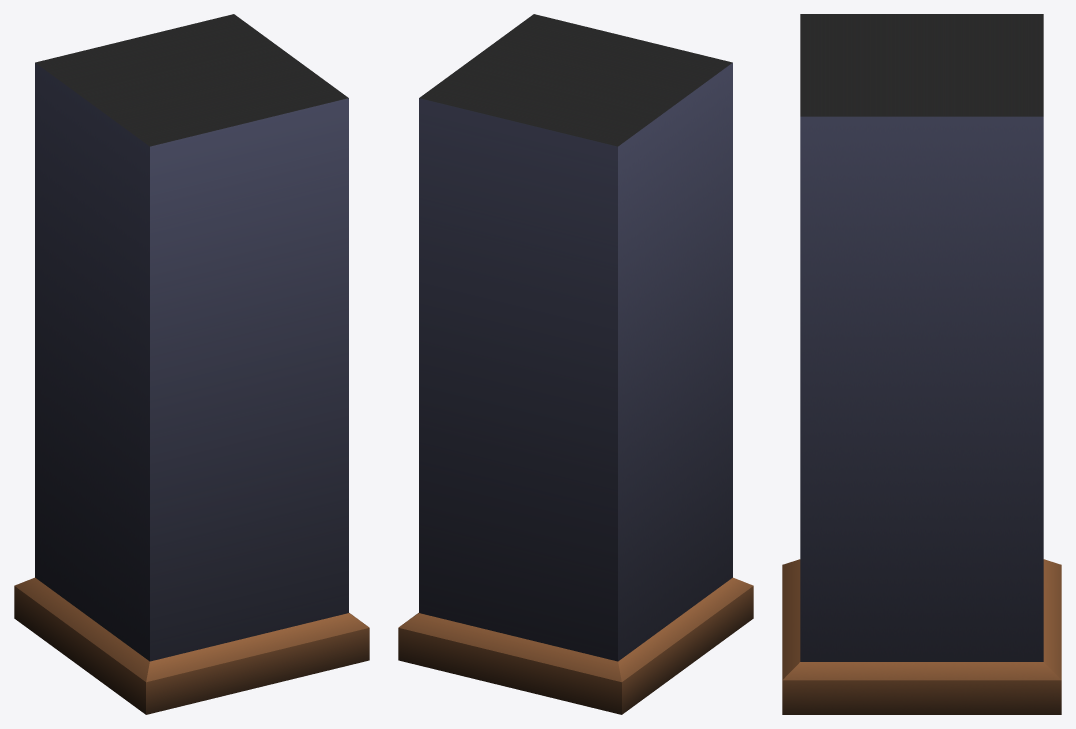
File: big_col.fbx
3 renders of one model, left to right at view 1: azimuth 30°, elevation 25°; view 2: azimuth 150°, elevation 25°; view 3: azimuth 270°, elevation 25°, orthographic. The views are drawn at different scales.
Parts seen in each view (by area): view 1: SM_big_col; view 2: SM_big_col; view 3: SM_big_col.
Boxes of the visible parts, x1,y1,x2,y2 form: SM_big_col: (14,14,369,714); SM_big_col: (398,14,753,714); SM_big_col: (782,14,1061,714).
Size of the model in its own units: 129 by 308 by 132.
